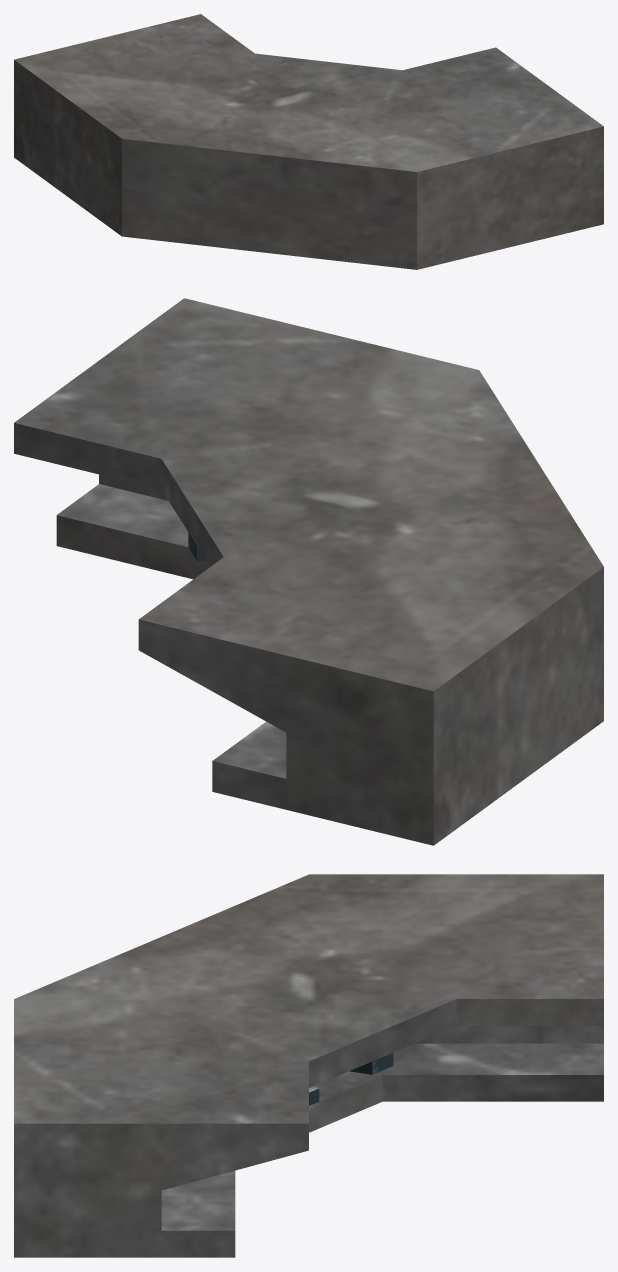
File: ConsoleModuleCornerFull.fbx
The picture shows the model from 3 angles, top to bottom: view 1: azimuth 30°, elevation 25°; view 2: azimuth 150°, elevation 25°; view 3: azimuth 270°, elevation 25°; orthographic projection. The views are drawn at different scales.
Visible parts, largest first — view 1: Console Module Corner Full; view 2: Console Module Corner Full; view 3: Console Module Corner Full.
Boxes of the visible parts, x1,y1,x2,y2 form: Console Module Corner Full: (14, 14, 603, 269); Console Module Corner Full: (14, 298, 603, 845); Console Module Corner Full: (14, 874, 603, 1257).
Bounding box in the file's own units: 4.8 × 4.8 × 1.2.
2 materials, 2 textured.
